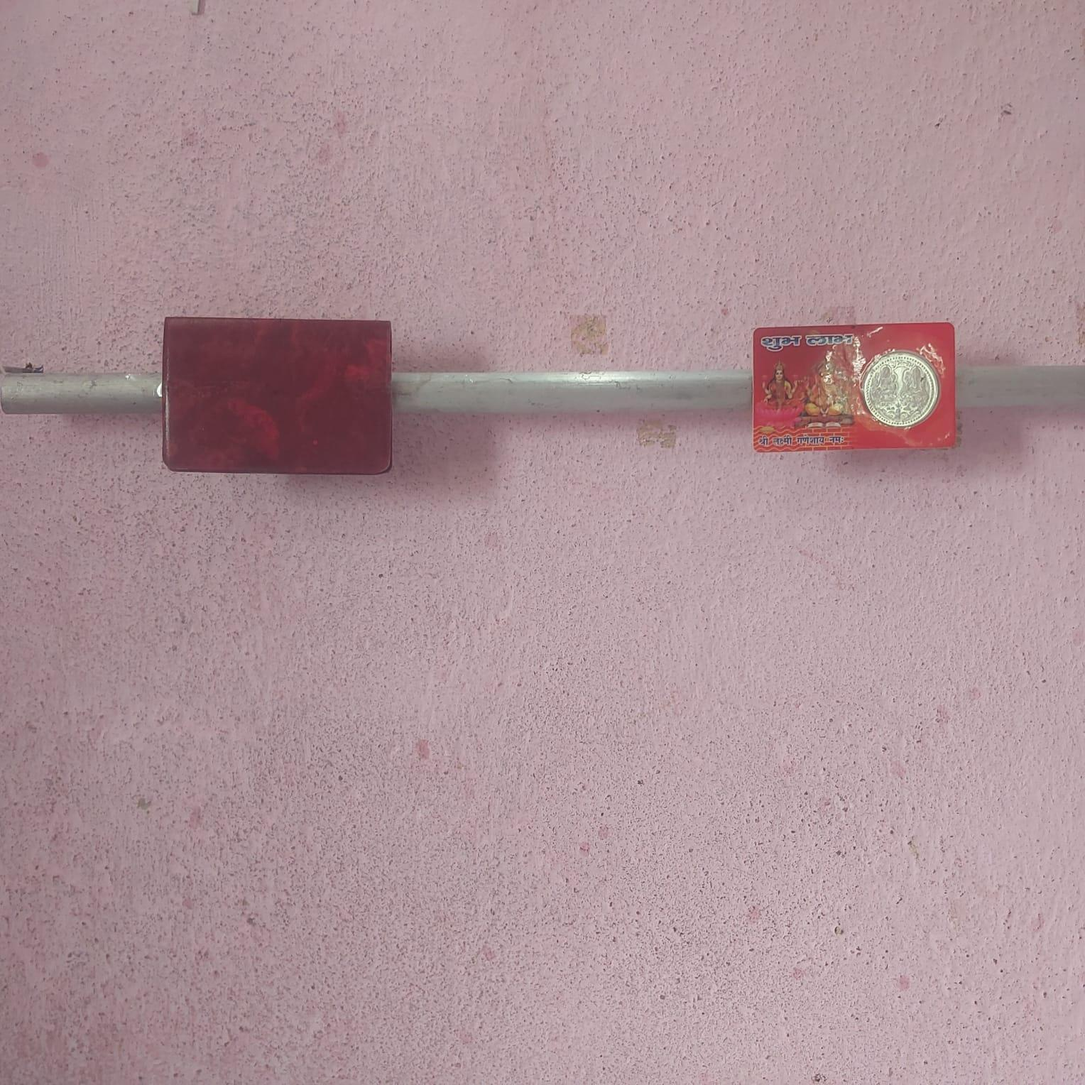blessing_card: (758, 325, 961, 450)
wallet: (163, 312, 405, 479)
